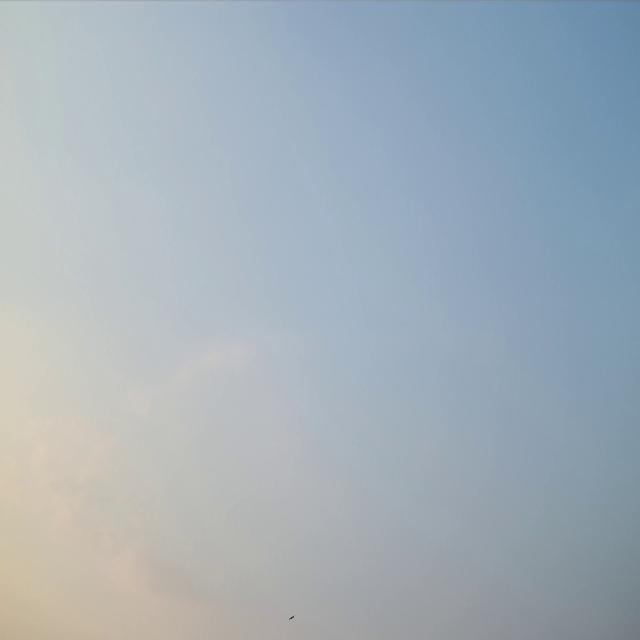UAV: (288, 614, 296, 622)
